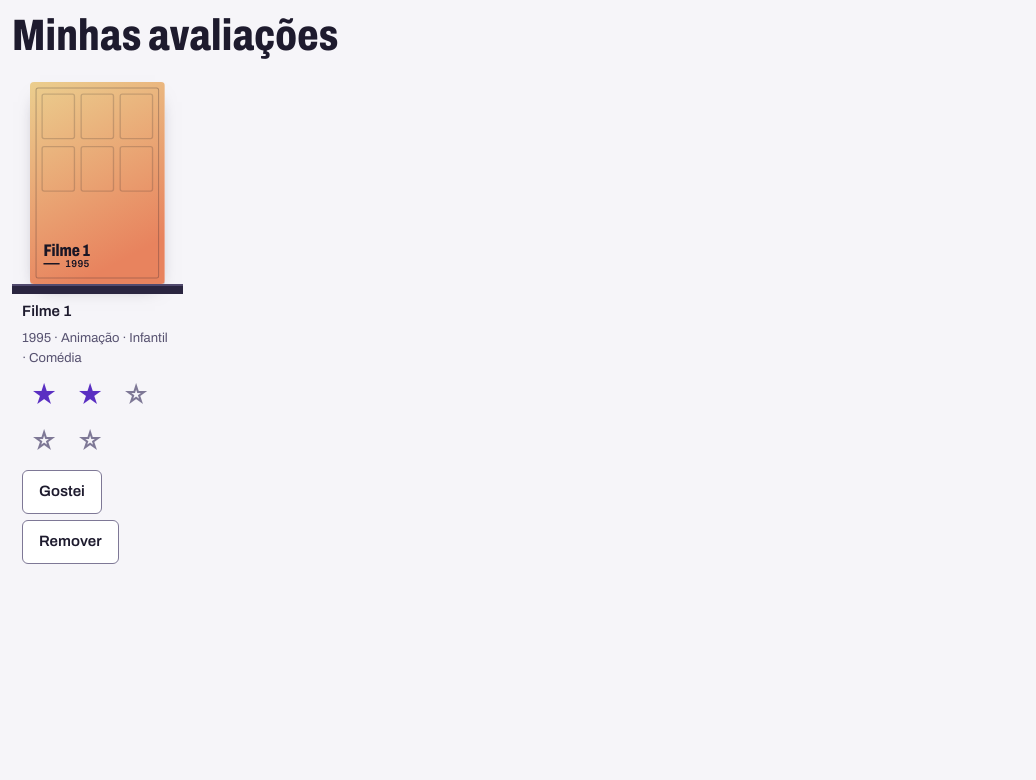
Test case: MinhasAvaliacoes › editar a nota troca o estado sem tirar o filme; remover envia DELETE sem corpo e tira o filme
Check: the text "Filme 1" is shown, box [22,303,72,319]
Click the radio button named "5 de 5 estrelas" at point(90, 442), box [68,420,112,464]
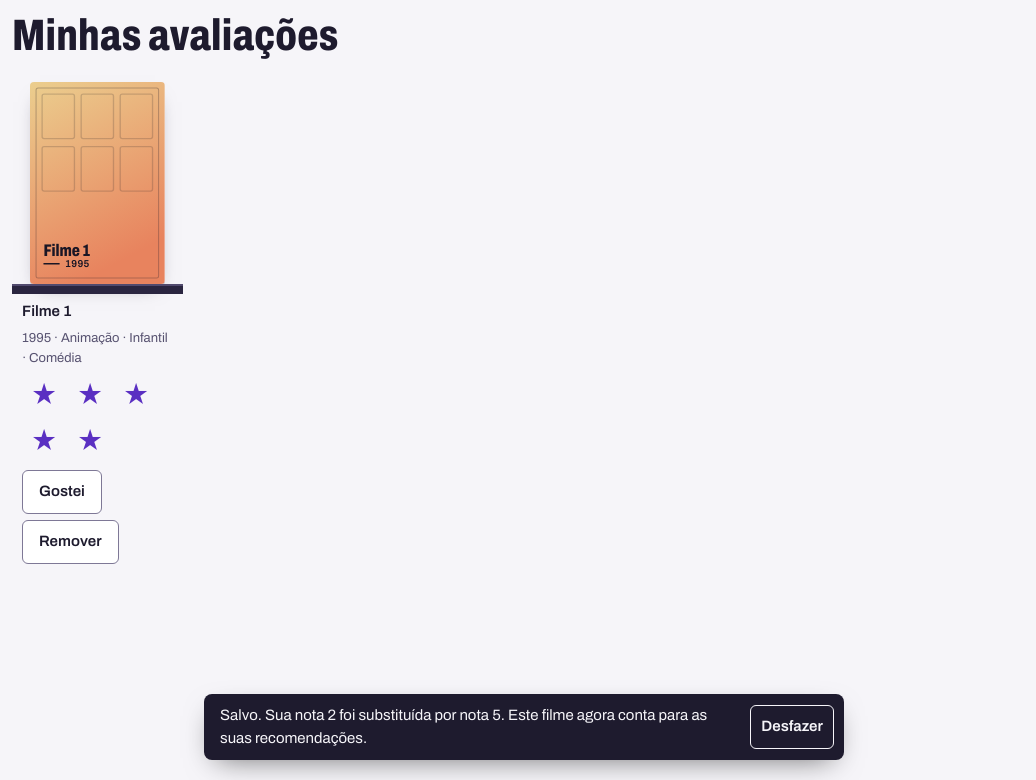
Click the button "Remover" at point(70, 542), box [22,520,119,564]
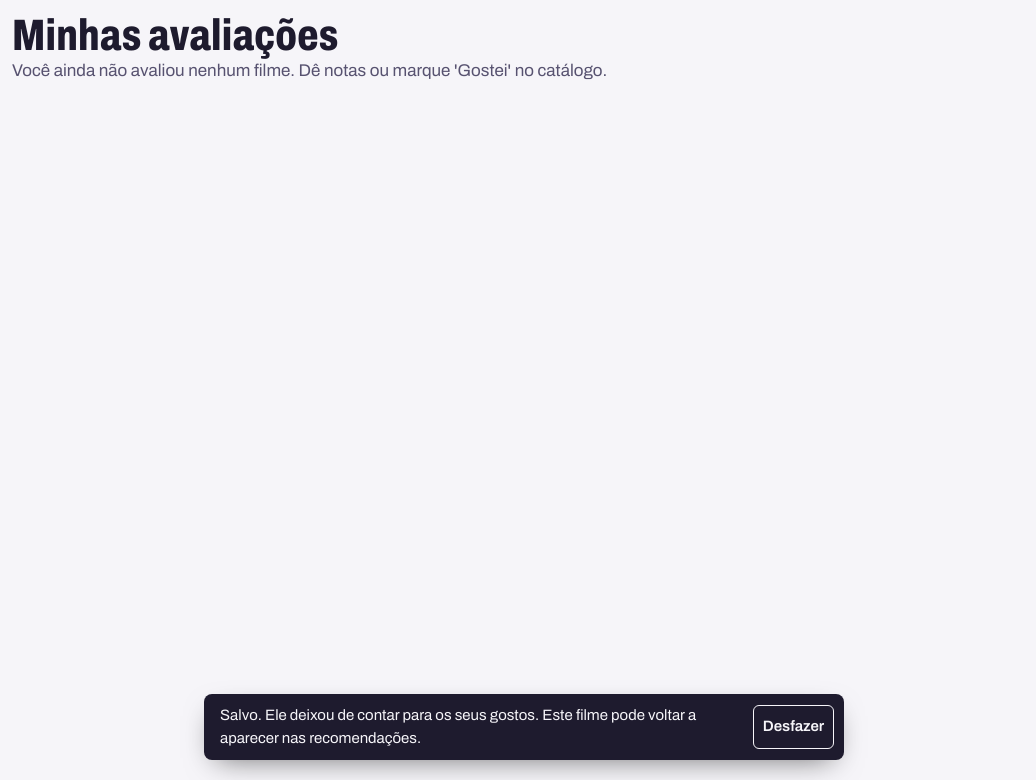
Check: the link "Filme 1" is gone
Check: the text "Você ainda não avaliou" is shown, box [12,61,607,80]
